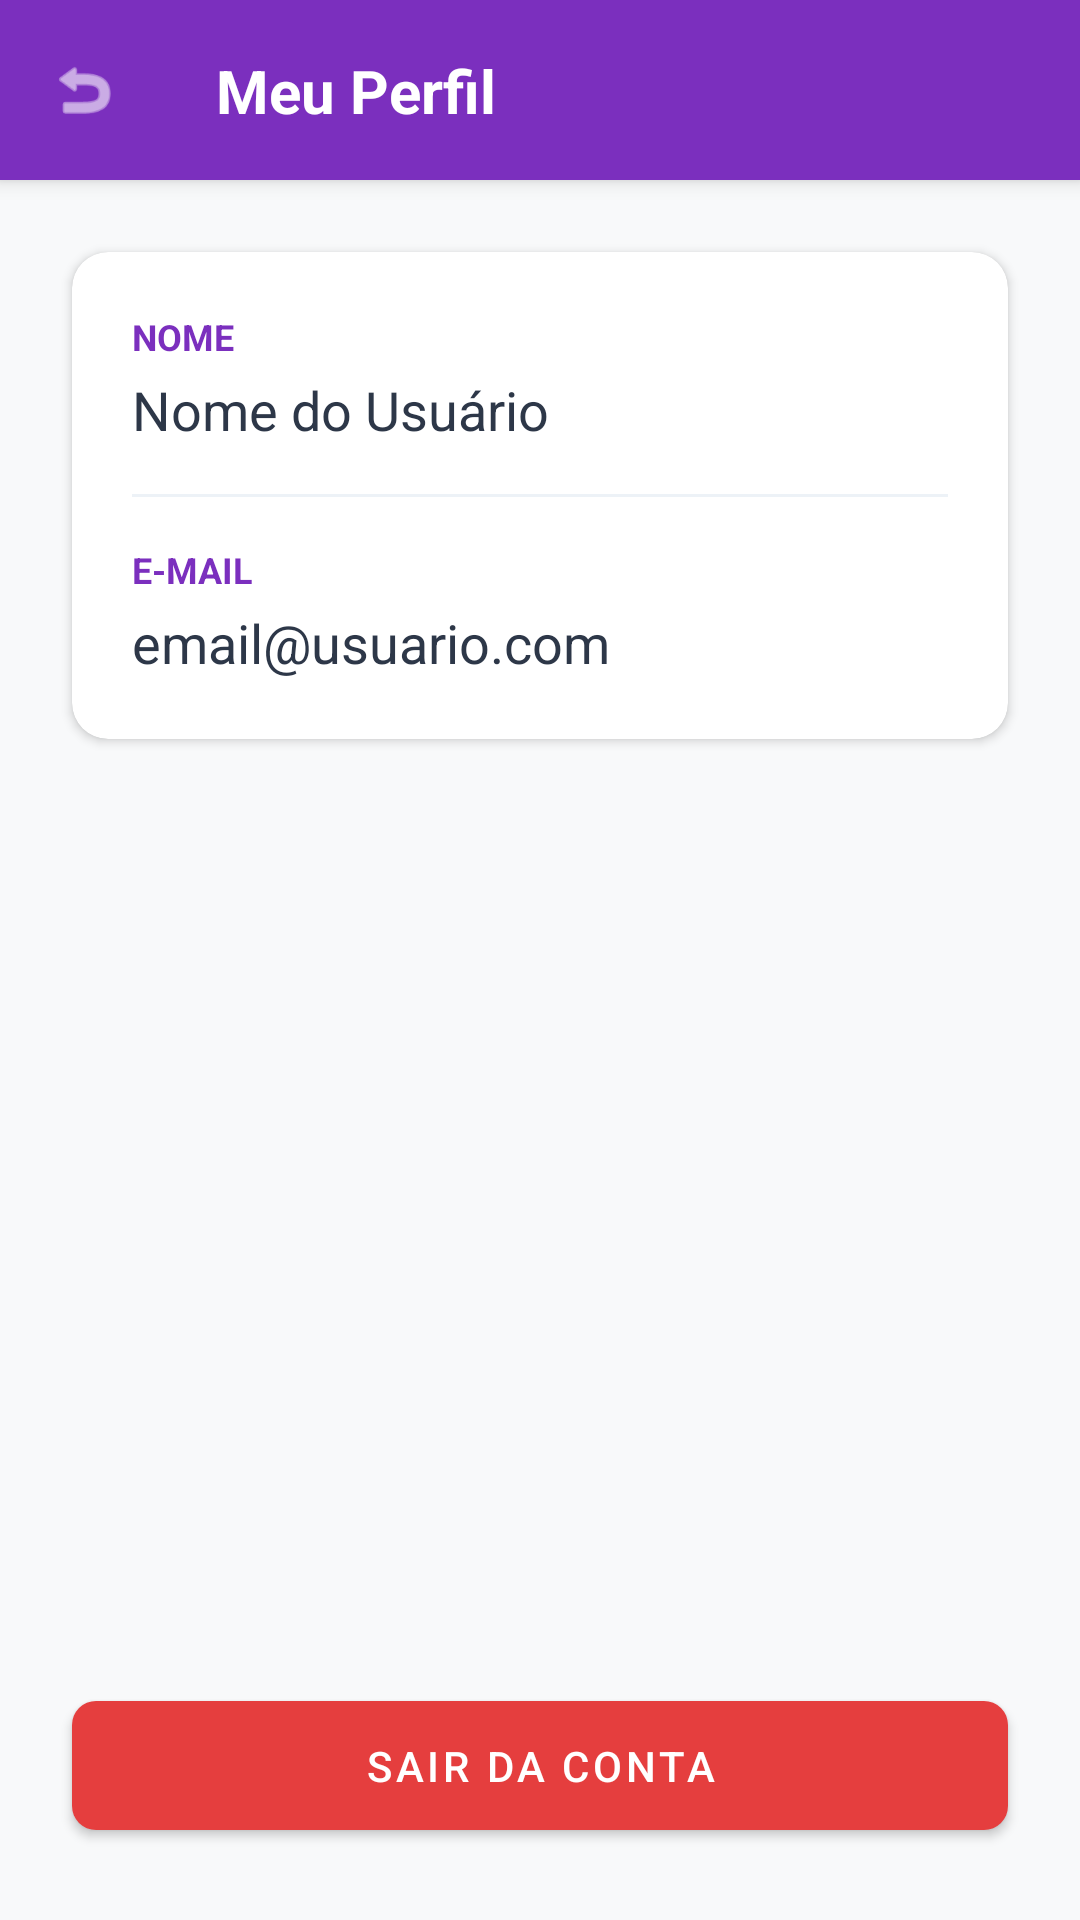

Icon click points for this 1080px×1920px phone screenshot, format [x,y]:
revert: [85,90]
